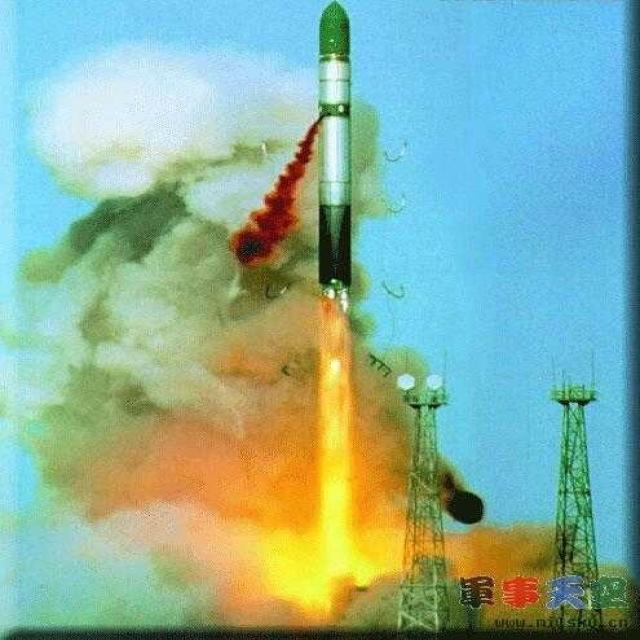missile: (311, 0, 362, 307)
